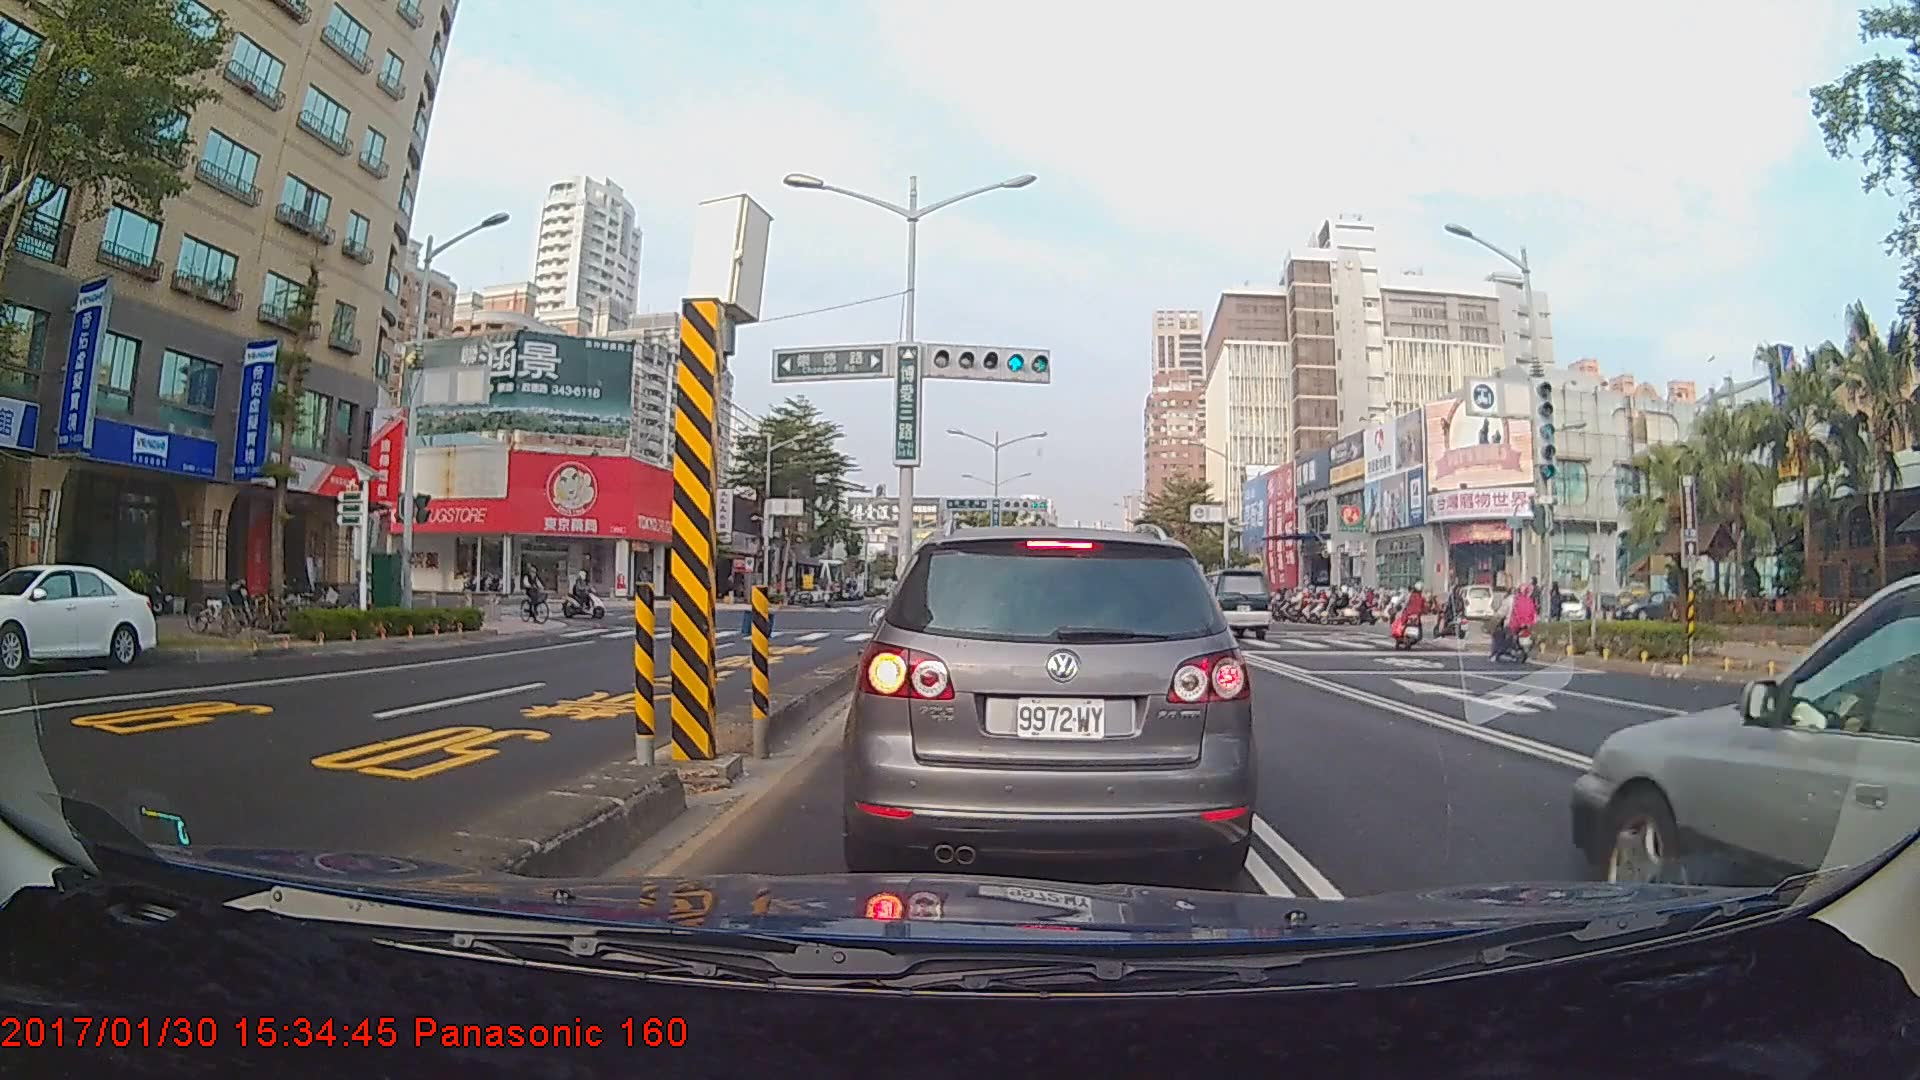pedestrian: (1542, 579, 1568, 637)
rider: (1479, 582, 1538, 666), (1387, 582, 1432, 654), (518, 559, 561, 629), (564, 568, 615, 625), (1436, 582, 1473, 646)
vehicle: (853, 524, 1253, 878), (1570, 569, 1920, 934), (0, 561, 160, 671), (1183, 567, 1272, 640)
